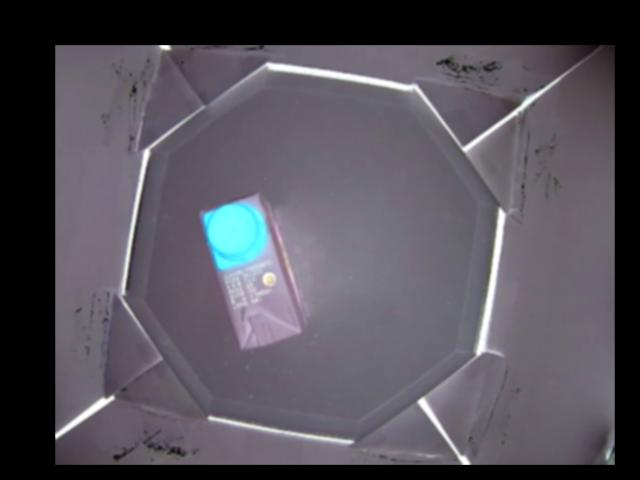Bottle: (201, 187, 307, 349)
